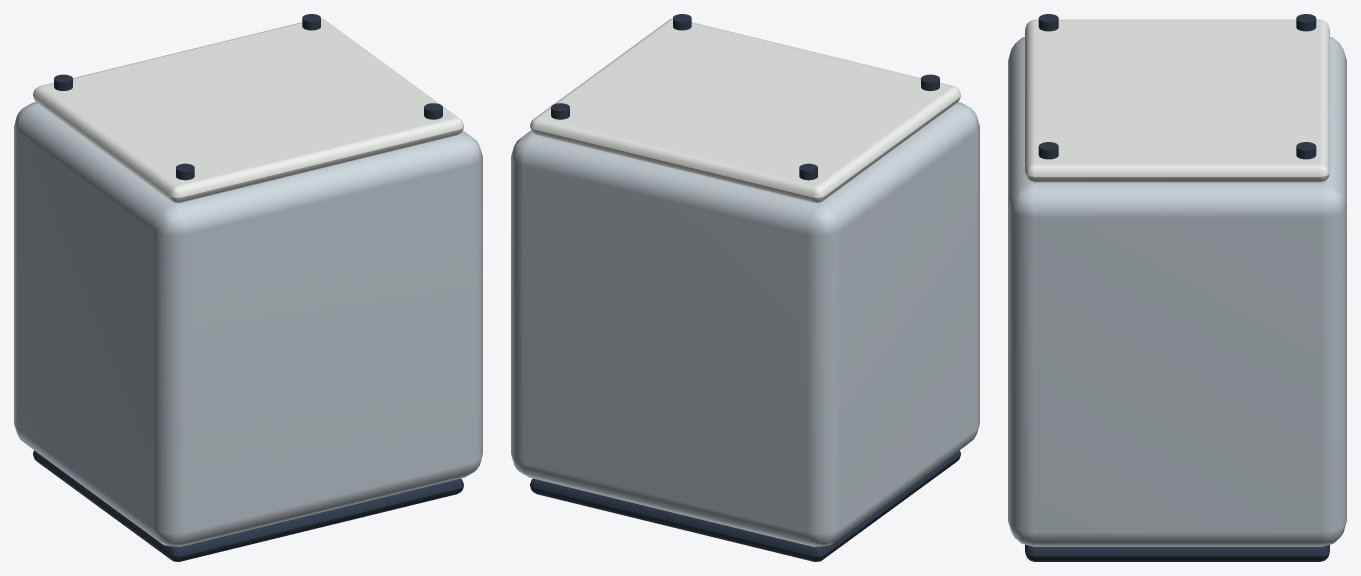
File: medium_platform.glb
3 renders of one model, left to right at view 1: azimuth 30°, elevation 25°; view 2: azimuth 150°, elevation 25°; view 3: azimuth 270°, elevation 25°, orthographic. The views are drawn at different scales.
Visible parts, largest first — view 1: Main_Platform_Body, Top_Structural_Plate, Bottom_Structural_Plate; view 2: Main_Platform_Body, Top_Structural_Plate, Bottom_Structural_Plate; view 3: Main_Platform_Body, Top_Structural_Plate, Bottom_Structural_Plate.
Part boxes in pixels (<box>): Main_Platform_Body: <box>14,102,482,546</box>; Top_Structural_Plate: <box>33,18,463,202</box>; Bottom_Structural_Plate: <box>33,450,463,561</box>; Main_Platform_Body: <box>511,102,979,546</box>; Top_Structural_Plate: <box>530,18,960,202</box>; Bottom_Structural_Plate: <box>530,450,960,561</box>; Main_Platform_Body: <box>1008,37,1346,546</box>; Top_Structural_Plate: <box>1025,19,1329,182</box>; Bottom_Structural_Plate: <box>1025,544,1329,561</box>.
Size of the model in its own units: 1 by 1.13 by 0.85.
